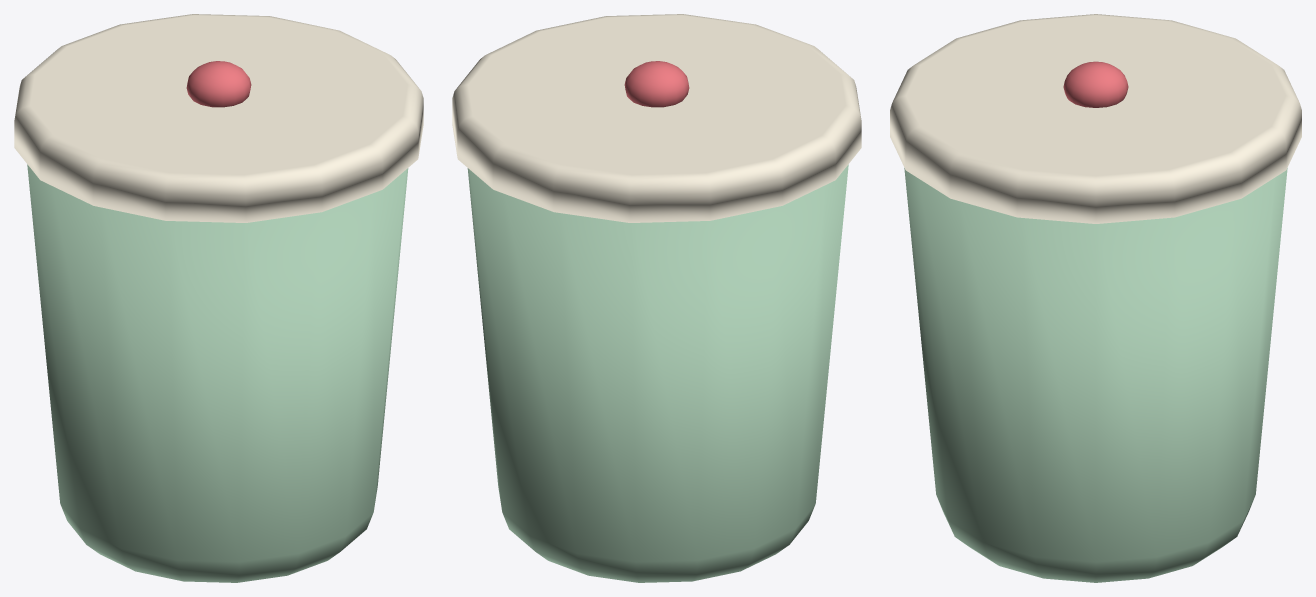
File: prop_trash_bin.glb
The picture shows the model from 3 angles, left to right: view 1: azimuth 30°, elevation 25°; view 2: azimuth 150°, elevation 25°; view 3: azimuth 270°, elevation 25°; orthographic projection.
Visible parts, largest first — view 1: prop_trash_bin; view 2: prop_trash_bin; view 3: prop_trash_bin.
Boxes of the visible parts, x1=… form: prop_trash_bin: x1=14, y1=14, x2=423, y2=582; prop_trash_bin: x1=452, y1=14, x2=861, y2=582; prop_trash_bin: x1=890, y1=14, x2=1301, y2=582.
Bounding box in the file's own units: 0.395 × 0.4913 × 0.395.
